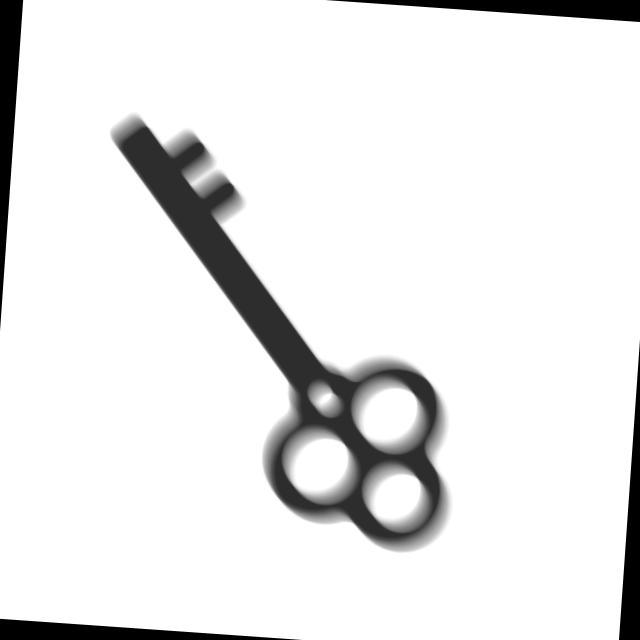key: (72, 106, 483, 562)
